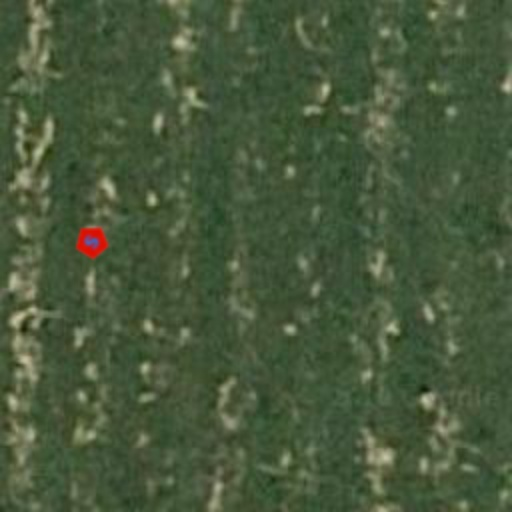pentagon: (66, 216, 118, 268)
